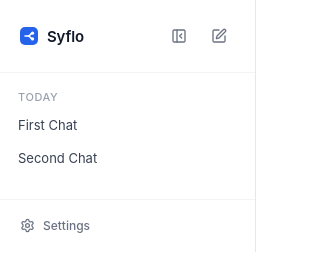
Test: Sidebar › shows child chat after clicking a root (parent_word badge removed)
This screenshot has width=320, height=276.
Step 1. Click the text "Second Chat" → (58,158), box [18, 150, 97, 166]
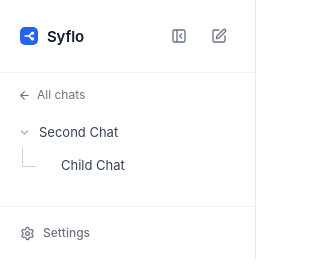
Expected: the text "Child Chat" is shown, [61, 157, 125, 173]
